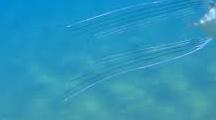Carangidae -Jacks-: (59, 0, 216, 104)
